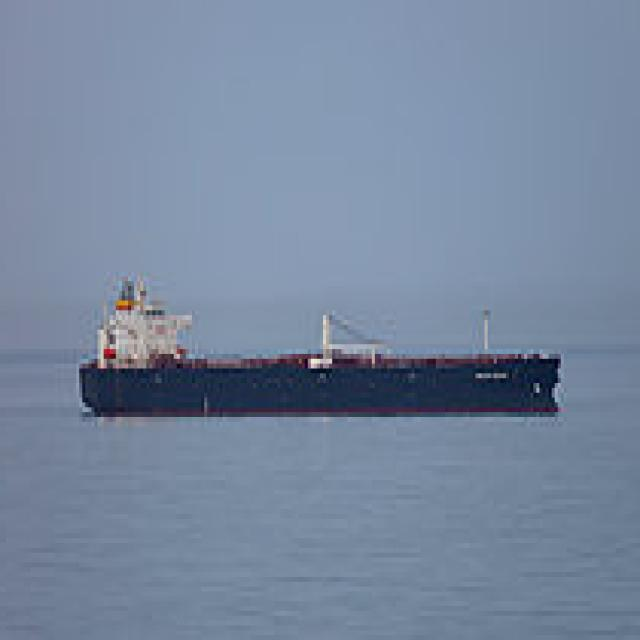Tanker: (76, 267, 567, 417)
